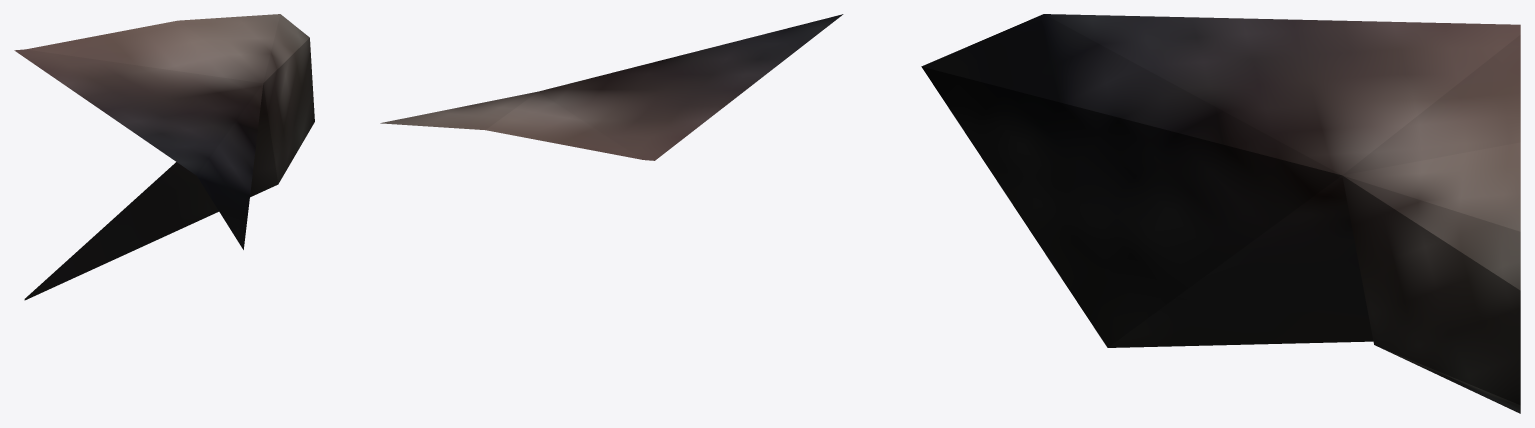
3 views of the same model, side by side, from view 1: azimuth 30°, elevation 25°; view 2: azimuth 150°, elevation 25°; view 3: azimuth 270°, elevation 25° (orthographic). The views are drawn at different scales.
Size of the model in its own units: 0.0301 by 0.0245 by 0.0398.
Materials: 1 (1 with a texture image).
